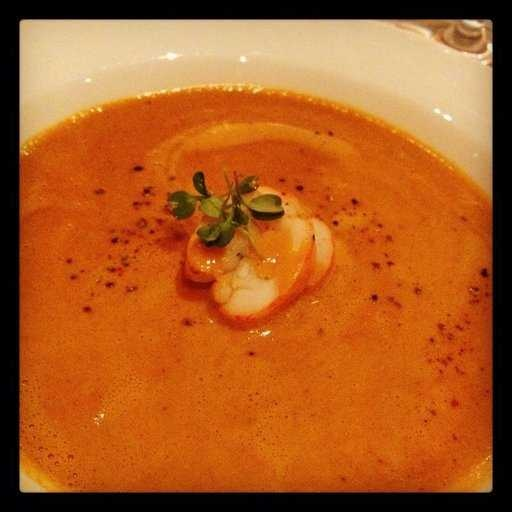soup: (18, 77, 483, 480)
